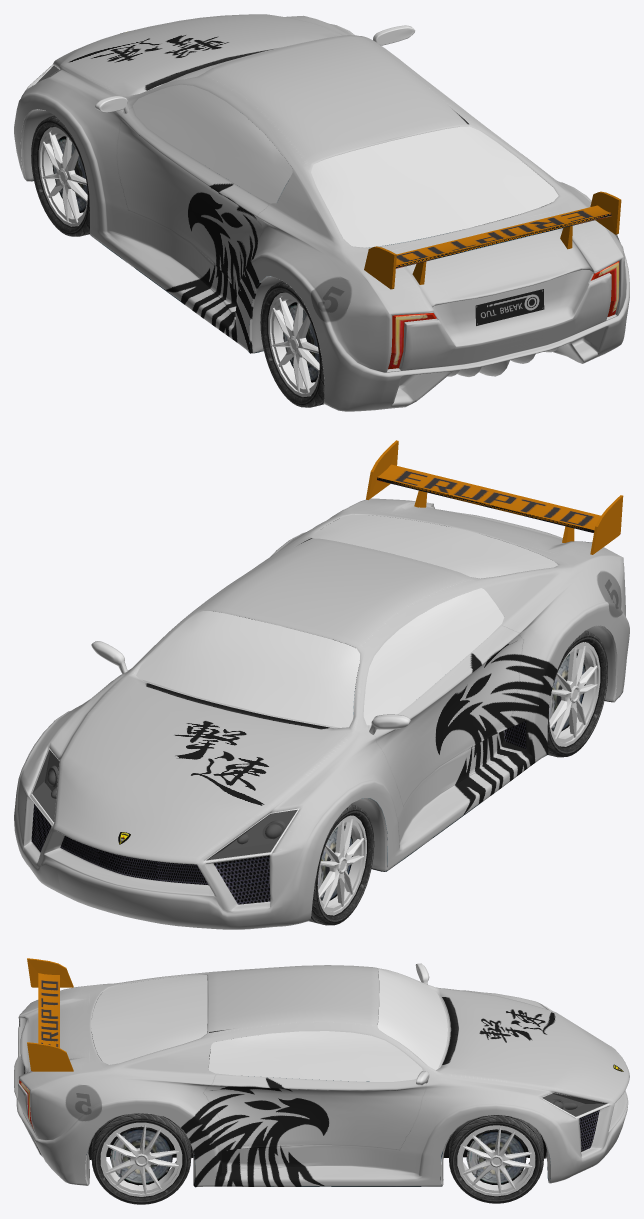
The model's file is eruptio x1.FBX.
The picture shows the model from 3 angles, top to bottom: view 1: azimuth 30°, elevation 25°; view 2: azimuth 150°, elevation 25°; view 3: azimuth 270°, elevation 25°; orthographic projection. The views are drawn at different scales.
Parts seen in each view (by area): view 1: body, 对象006, 对象007, Box005, Line023, Line022, Tube032, Tube030, Box003, back_light, Tube033, Tube031 (+4 smaller); view 2: body, 对象008, 对象007, 对象006, Box005, Line006, Line023, Line022, Tube030, Line004, Tube032, Box002 (+3 smaller); view 3: body, 对象007, 对象006, 对象008, Box005, Tube015, Tube028, Line014, Line021, Cylinder020, Cylinder027, Tube014 (+3 smaller).
Part boxes in pixels (<box>): body: <box>14,14,629,411</box>; 对象006: <box>311,126,558,247</box>; 对象007: <box>132,71,468,203</box>; Box005: <box>364,191,621,289</box>; Line023: <box>271,296,319,395</box>; Line022: <box>42,130,87,225</box>; Tube032: <box>260,281,324,407</box>; Tube030: <box>31,115,89,236</box>; Box003: <box>475,289,544,325</box>; back_light: <box>388,261,619,369</box>; Tube033: <box>268,292,319,397</box>; Tube031: <box>38,127,87,226</box>; body: <box>14,498,629,929</box>; 对象008: <box>136,611,359,727</box>; 对象007: <box>255,550,504,725</box>; 对象006: <box>311,514,558,578</box>; Box005: <box>366,440,623,554</box>; Line006: <box>32,750,297,860</box>; Line023: <box>549,642,597,742</box>; Line022: <box>317,815,364,911</box>; Tube030: <box>309,804,374,925</box>; Line004: <box>30,747,299,862</box>; Tube032: <box>547,630,607,757</box>; Box002: <box>91,641,410,734</box>; body: <box>14,965,629,1187</box>; 对象007: <box>208,969,422,1081</box>; 对象006: <box>91,975,207,1064</box>; 对象008: <box>377,968,447,1069</box>; Box005: <box>27,958,73,1071</box>; Tube015: <box>91,1113,191,1204</box>; Tube028: <box>449,1115,543,1203</box>; Line014: <box>103,1124,181,1193</box>; Line021: <box>460,1127,534,1193</box>; Cylinder020: <box>110,1126,172,1185</box>; Cylinder027: <box>466,1129,526,1184</box>; Tube014: <box>100,1122,182,1196</box>.
Size of the model in its own units: 438 by 281 by 960.
